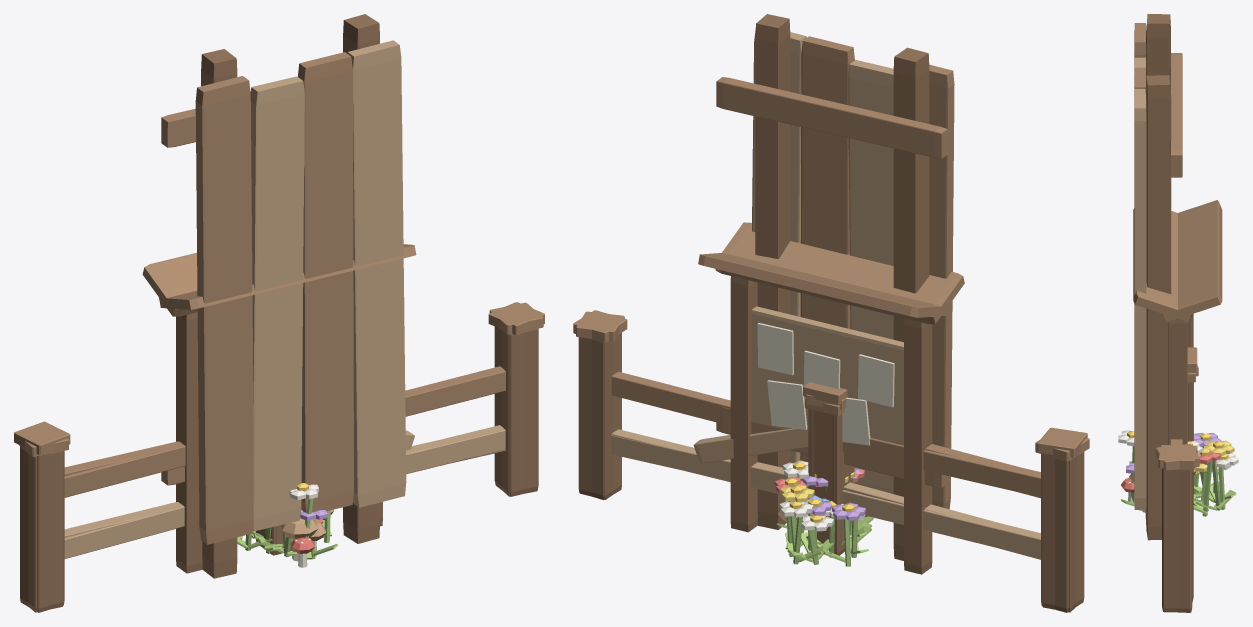
File: custom.glb
The picture shows the model from 3 angles, left to right: view 1: azimuth 30°, elevation 25°; view 2: azimuth 150°, elevation 25°; view 3: azimuth 270°, elevation 25°; orthographic projection. The views are drawn at different scales.
Visible parts, largest first — view 1: banner_board, fence_wood, fence_wood_broken, notice_board, mushrooms_brown, flowers_red; view 2: banner_board, notice_board, fence_wood, fence_wood_broken, fence_wood_post, flowers_violet, flowers_mixed, flowers_yellow, flowers_red; view 3: banner_board, notice_board, fence_wood, fence_wood_broken, flowers_red, flowers_yellow, flowers_violet, flowers_mixed, fence_wood_post, mushrooms_red.
Part boxes in pixels (x1,y1,x2,y2): banner_board: (161, 14, 406, 578); fence_wood: (14, 302, 543, 612); fence_wood_broken: (19, 302, 544, 612); notice_board: (142, 244, 416, 573); mushrooms_brown: (280, 509, 334, 561); flowers_red: (272, 483, 318, 559); banner_board: (716, 14, 954, 560); notice_board: (698, 222, 964, 574); fence_wood: (573, 310, 1087, 612); fence_wood_broken: (576, 311, 1089, 612); fence_wood_post: (803, 382, 854, 555); flowers_violet: (779, 474, 871, 566); flowers_mixed: (787, 468, 866, 564); flowers_yellow: (777, 460, 871, 559); flowers_red: (774, 468, 873, 549); banner_board: (1134, 14, 1182, 540); notice_board: (1133, 200, 1222, 444); fence_wood: (1158, 313, 1197, 612); fence_wood_broken: (1156, 317, 1199, 612); flowers_red: (1118, 430, 1220, 516); flowers_yellow: (1187, 440, 1235, 510); flowers_violet: (1193, 432, 1238, 509); flowers_mixed: (1121, 461, 1236, 510); fence_wood_post: (1187, 347, 1197, 441); mushrooms_red: (1121, 469, 1195, 502).
Bounding box in the file's own units: 4.35 × 4.15 × 0.9957.
